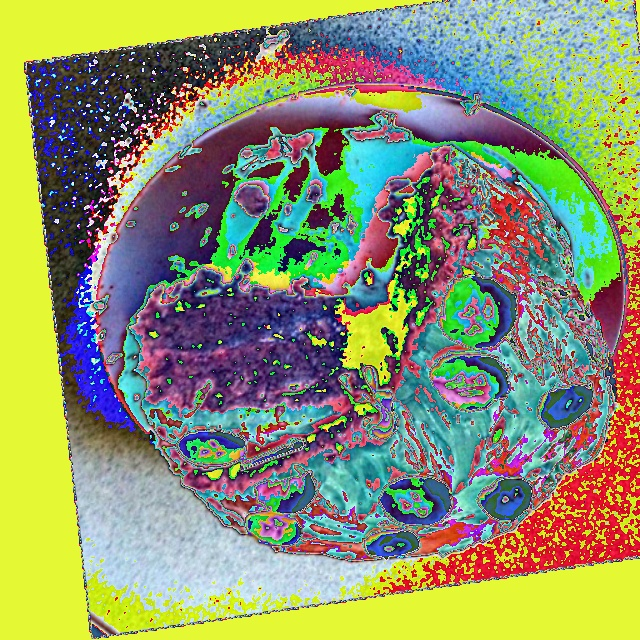background: (127, 147, 617, 562)
